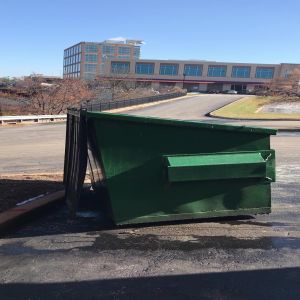Dumpster: (64, 107, 281, 223)
